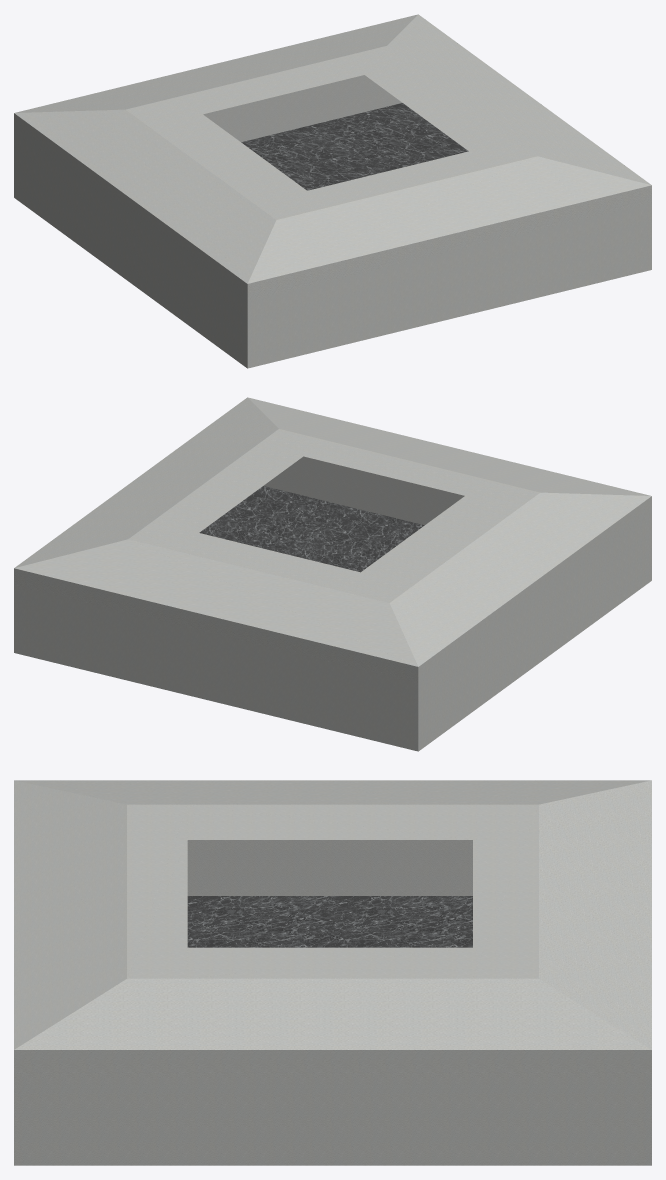
File: Museum.fbx
3 renders of one model, top to bottom at view 1: azimuth 30°, elevation 25°; view 2: azimuth 150°, elevation 25°; view 3: azimuth 270°, elevation 25°, orthographic. The views are drawn at different scales.
Parts seen in each view (by area): view 1: Wall1, AngleRoof4, AngleRoof1, MuseumSkylight, Wall3, AngleRoof3, MuseumFloor, AngleRoof2, WallConnector4, Roof1, Wall2, Roof4 (+3 smaller); view 2: Wall2, AngleRoof2, AngleRoof1, MuseumSkylight, Wall3, AngleRoof3, MuseumFloor, AngleRoof4, WallConnector2, Wall1, Roof1, Roof4 (+3 smaller); view 3: Wall4, AngleRoof3, MuseumSkylight, AngleRoof2, AngleRoof4, Wall3, MuseumFloor, WallConnector5, AngleRoof1, Roof1, Roof4, Roof3 (+1 smaller).
Boxes of the visible parts, left/top/right/bottom form: Wall1: left=247, top=202, right=651, bottom=368; AngleRoof4: left=247, top=156, right=650, bottom=283; AngleRoof1: left=14, top=109, right=276, bottom=283; MuseumSkylight: left=204, top=76, right=466, bottom=189; Wall3: left=14, top=130, right=247, bottom=368; AngleRoof3: left=387, top=14, right=650, bottom=184; MuseumFloor: left=241, top=103, right=468, bottom=190; AngleRoof2: left=15, top=14, right=417, bottom=112; WallConnector4: left=247, top=185, right=651, bottom=300; Roof1: left=126, top=46, right=410, bottom=127; Wall2: left=203, top=75, right=402, bottom=142; Roof4: left=254, top=140, right=537, bottom=219; Wall2: left=14, top=585, right=418, bottom=751; AngleRoof2: left=15, top=539, right=418, bottom=666; AngleRoof1: left=389, top=492, right=651, bottom=666; MuseumSkylight: left=200, top=457, right=463, bottom=571; Wall3: left=418, top=513, right=651, bottom=751; AngleRoof3: left=15, top=397, right=278, bottom=567; MuseumFloor: left=199, top=486, right=424, bottom=572; AngleRoof4: left=248, top=397, right=650, bottom=495; WallConnector2: left=14, top=568, right=418, bottom=683; Wall1: left=263, top=456, right=464, bottom=525; Roof1: left=128, top=521, right=413, bottom=602; Roof4: left=257, top=429, right=539, bottom=508; Wall4: left=14, top=1073, right=651, bottom=1165; AngleRoof3: left=14, top=978, right=651, bottom=1049; MuseumSkylight: left=188, top=840, right=472, bottom=946; AngleRoof2: left=539, top=780, right=651, bottom=1049; AngleRoof4: left=14, top=780, right=126, bottom=1049; Wall3: left=187, top=840, right=472, bottom=895; MuseumFloor: left=187, top=896, right=472, bottom=947; WallConnector5: left=14, top=1050, right=651, bottom=1072; AngleRoof1: left=15, top=780, right=650, bottom=804; Roof1: left=473, top=804, right=538, bottom=978; Roof4: left=127, top=804, right=187, bottom=978; Roof3: left=187, top=804, right=472, bottom=839.
Bounding box in the file's own units: 25 × 5.98 × 25.
